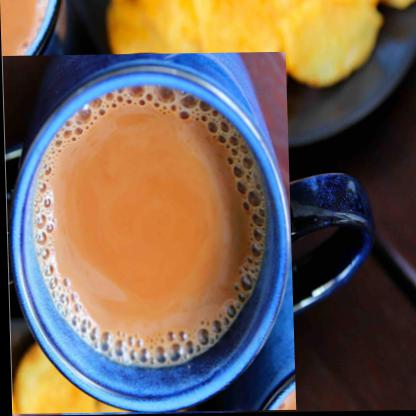milk_based_beverage: (1, 52, 295, 415)
